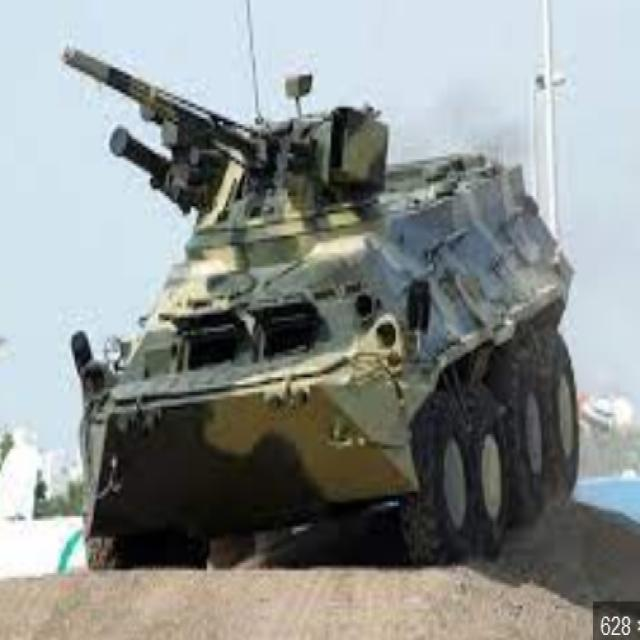MIL_APC: (48, 21, 600, 616)
